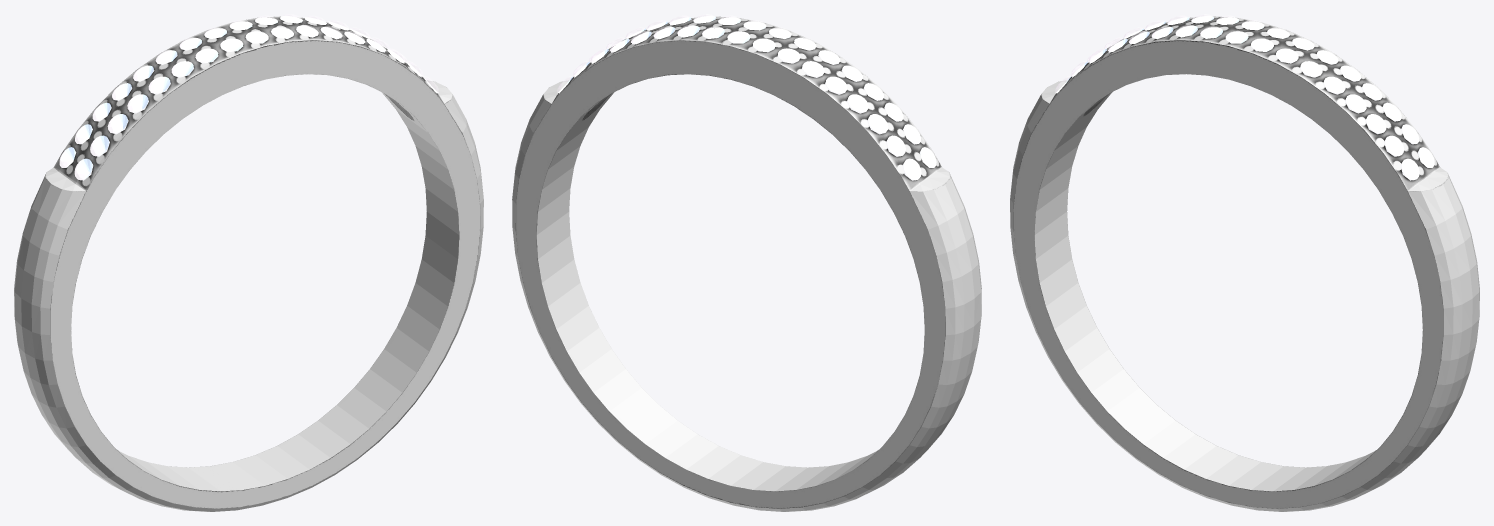
File: test_ring3.gltf
3 views of the same model, side by side, from view 1: azimuth 30°, elevation 25°; view 2: azimuth 150°, elevation 25°; view 3: azimuth 330°, elevation 25° (orthographic).
Parts seen in each view (by area): view 1: Ring, Gem_bottom, Gem_top; view 2: Ring, Gem_bottom, Gem_top; view 3: Ring, Gem_bottom, Gem_top.
Boxes of the visible parts, bbox=[...] form: Ring: bbox=[14, 16, 483, 511]; Gem_bottom: bbox=[59, 16, 438, 180]; Gem_top: bbox=[60, 14, 438, 179]; Ring: bbox=[512, 16, 981, 511]; Gem_bottom: bbox=[558, 16, 936, 180]; Gem_top: bbox=[557, 14, 936, 179]; Ring: bbox=[1010, 16, 1479, 511]; Gem_bottom: bbox=[1056, 16, 1434, 180]; Gem_top: bbox=[1055, 14, 1434, 179].
Size of the model in its own units: 0.0229 by 0.0227 by 0.00284.
Materials: 3 (1 with a texture image).
